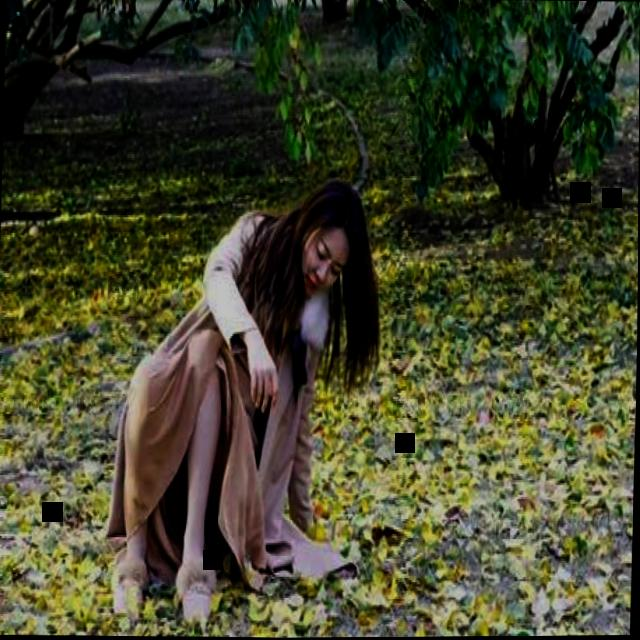Fall-Detected: (87, 171, 390, 619)
